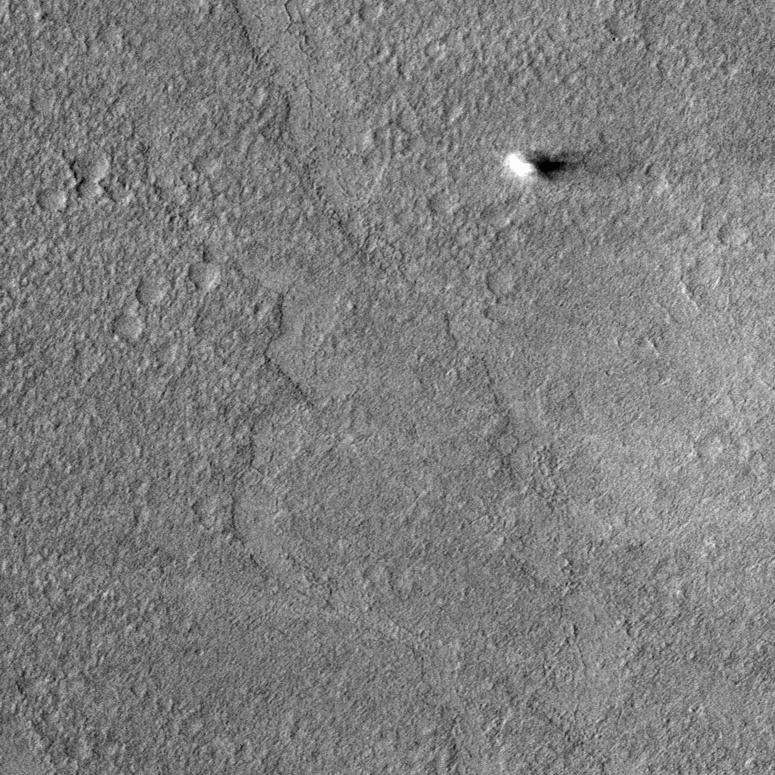dust_devil: (501, 147, 595, 183)
